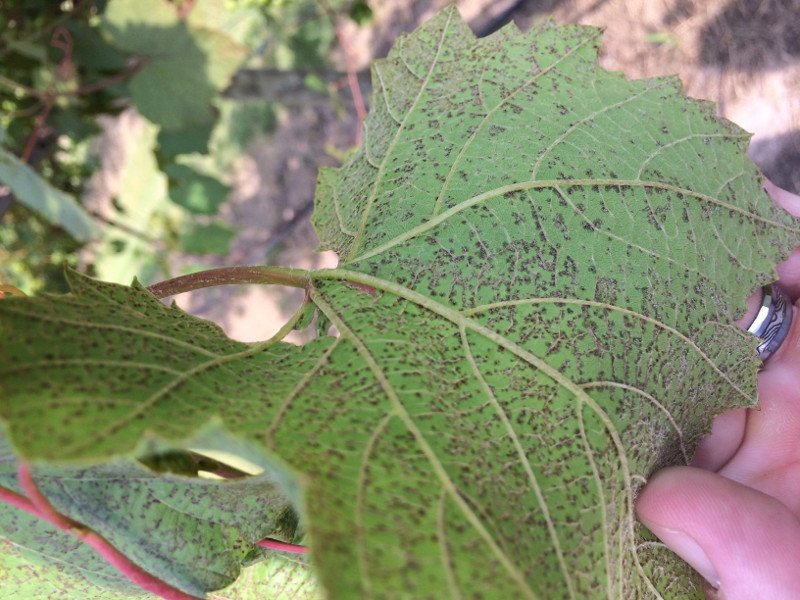downy: (425, 152, 697, 425), (412, 433, 578, 600), (63, 327, 176, 440), (405, 40, 514, 149), (522, 49, 618, 145), (326, 165, 420, 259), (256, 348, 344, 436), (700, 196, 767, 263), (625, 85, 689, 149), (588, 433, 644, 489), (701, 354, 748, 401)
